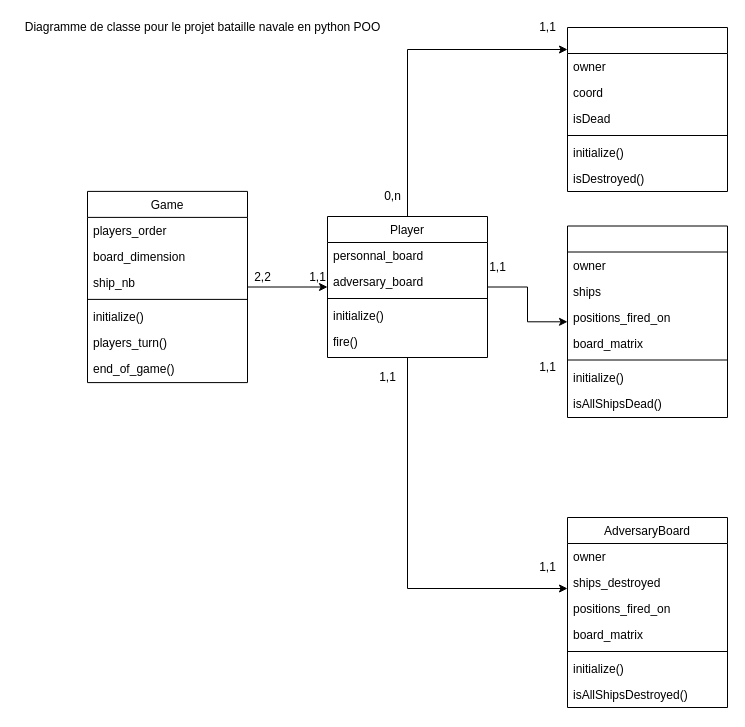
Some shapes in this 745 by 727 pixel diagram are drawn without their labels. Here are the shapes that lost their labels. From the top down, the box of each, then its label:
(566, 26, 728, 192): Ship
(566, 225, 728, 418): PersonalBoard
